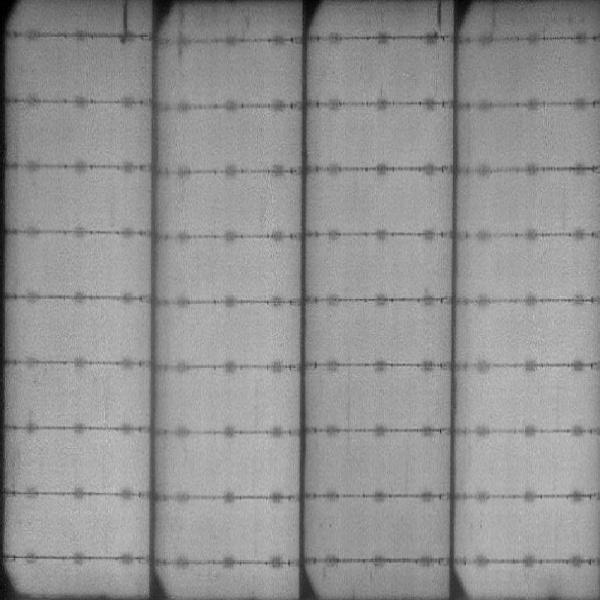scratch: (119, 3, 133, 38), (436, 2, 444, 31)
